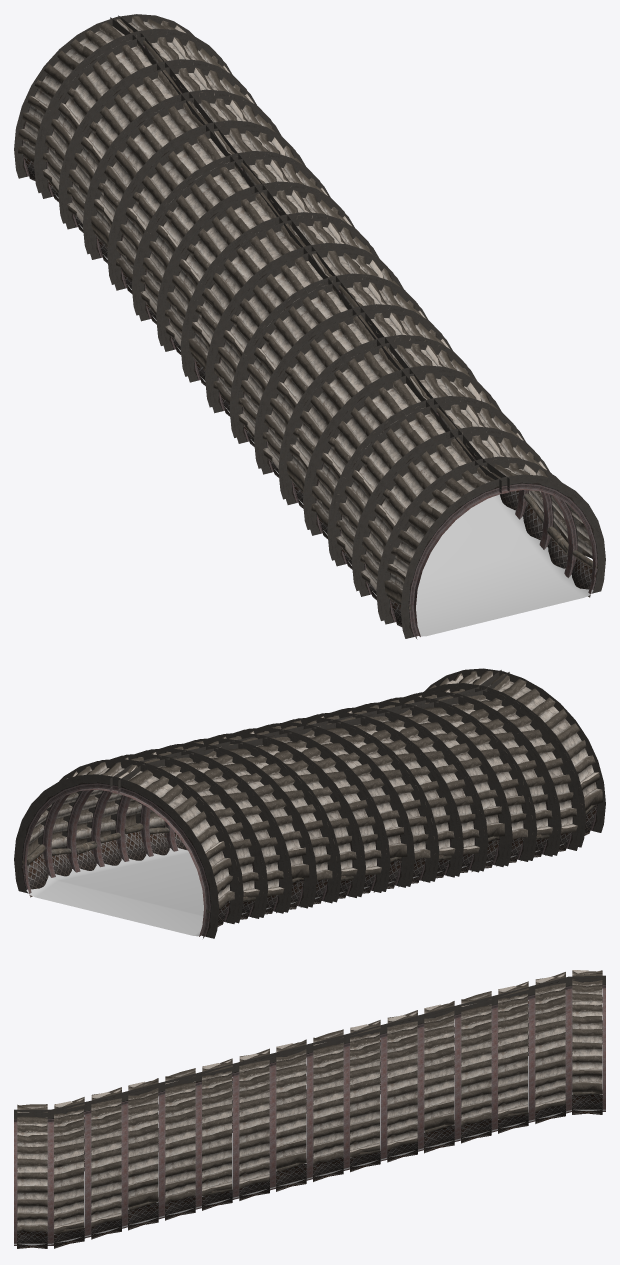
Rendered from tunnel_tile_6.dae.
The picture shows the model from 3 angles, top to bottom: view 1: azimuth 30°, elevation 25°; view 2: azimuth 150°, elevation 25°; view 3: azimuth 270°, elevation 25°; orthographic projection. The views are drawn at different scales.
Visible parts, largest first — view 1: Walls, Ground, Chainlink, Wood; view 2: Walls, Ground, Chainlink, Wood; view 3: Walls, Chainlink, Ground, Wood.
Boxes of the visible parts, x1,y1,x2,y2 form: Walls: [14, 14, 605, 638]; Ground: [55, 194, 593, 636]; Chainlink: [22, 154, 598, 639]; Wood: [47, 179, 596, 610]; Walls: [14, 668, 605, 938]; Ground: [26, 843, 564, 936]; Chainlink: [21, 805, 597, 938]; Wood: [22, 805, 595, 913]; Walls: [14, 970, 605, 1245]; Chainlink: [17, 1029, 602, 1248]; Ground: [14, 1045, 605, 1245]; Wood: [23, 1025, 602, 1234].
Bounding box in the file's own units: 606 × 899 × 2000.
